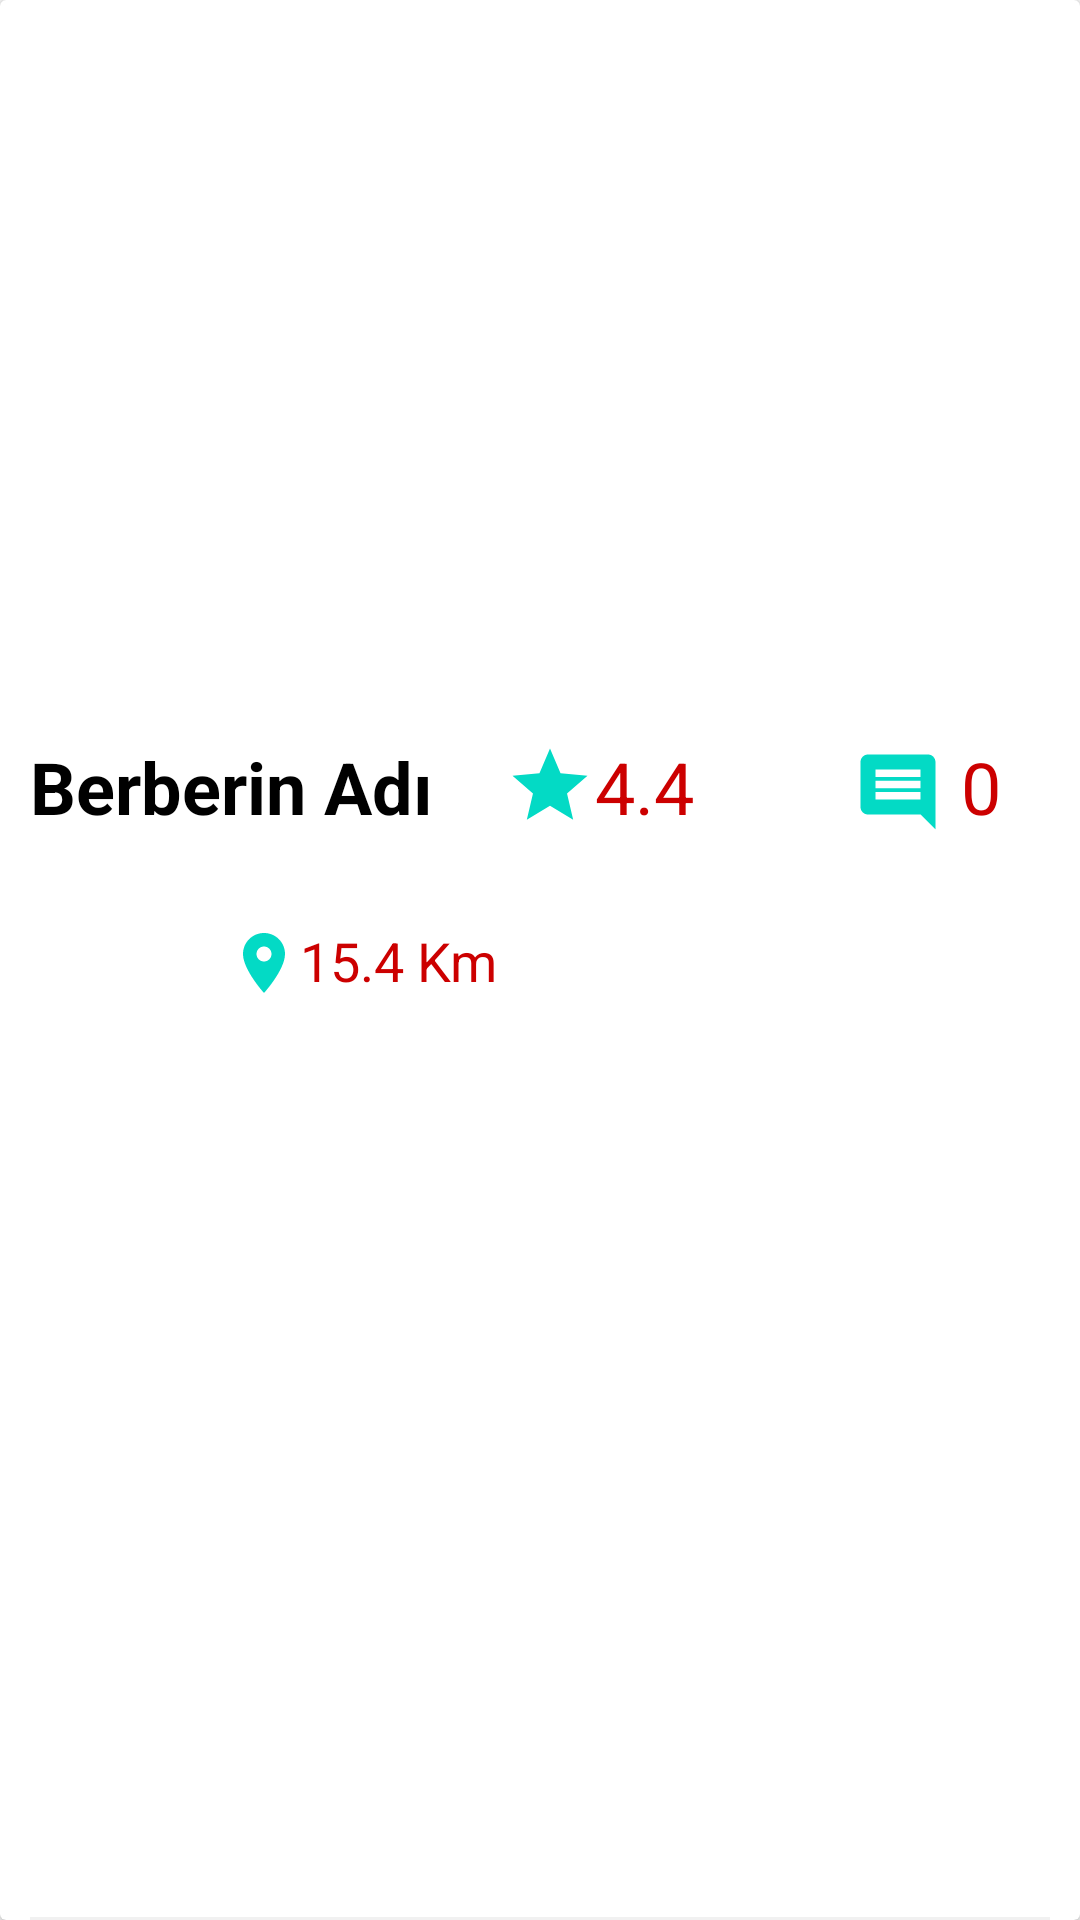

Named icons in this screenshot (1080w x 1920h) and their bounding boxes, bbox(x1, y1, x2, y2):
comment: bbox(860, 754, 936, 829)
location on: bbox(243, 933, 285, 993)
star: bbox(513, 749, 587, 820)
